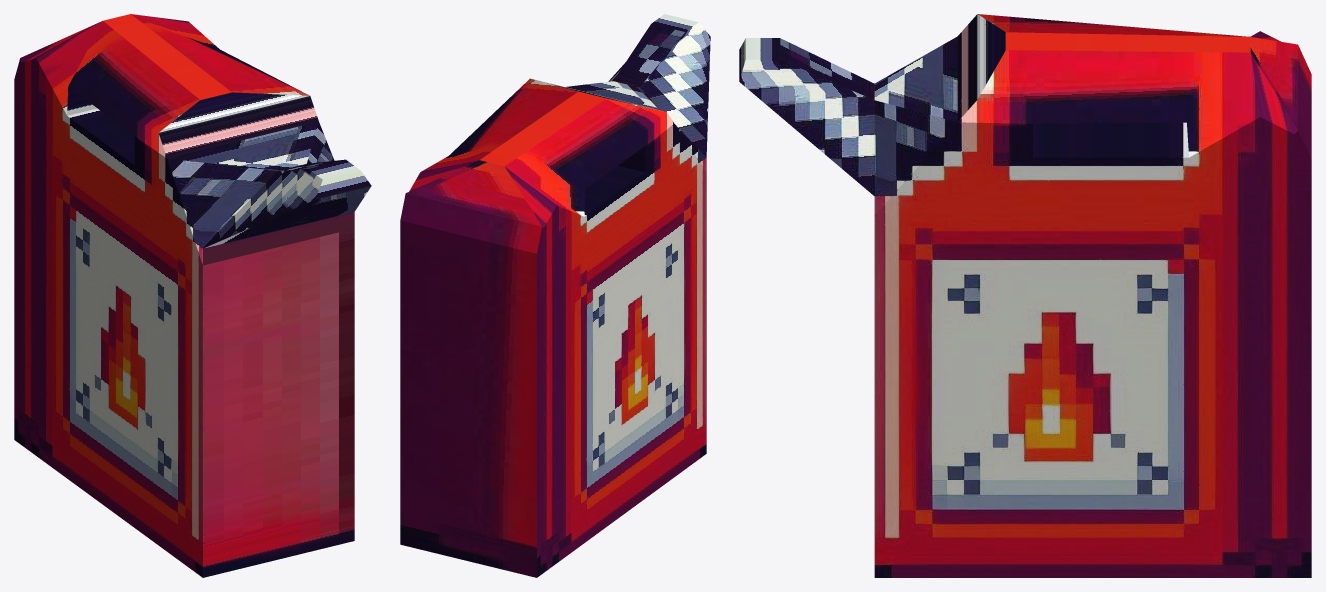
File: GasCan.glb
3 renders of one model, left to right at view 1: azimuth 30°, elevation 25°; view 2: azimuth 150°, elevation 25°; view 3: azimuth 270°, elevation 25°, orthographic. The views are drawn at different scales.
Parts seen in each view (by area): view 1: OIG2 (16); view 2: OIG2 (16); view 3: OIG2 (16).
Boxes of the visible parts, x1,y1,x2,y2 form: OIG2 (16): (14, 14, 371, 577); OIG2 (16): (400, 14, 710, 577); OIG2 (16): (739, 14, 1311, 577).
Bounding box in the file's own units: 0.1905 × 0.5074 × 0.5367.
Materials: 1 (1 with a texture image).
